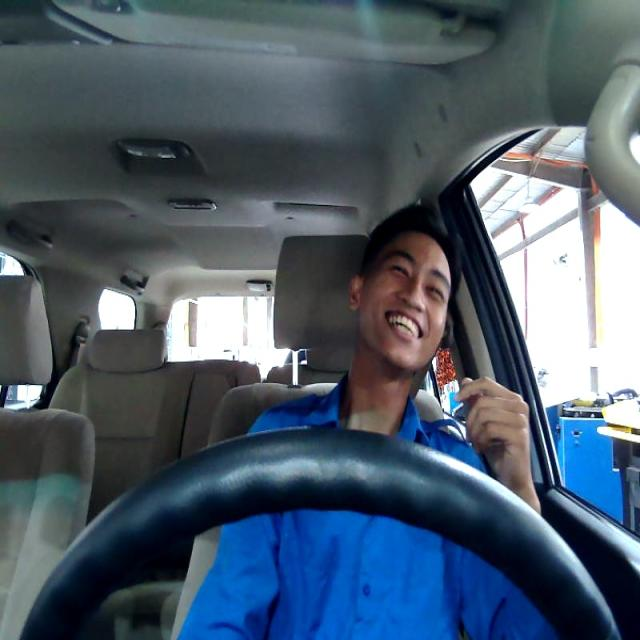focused: (346, 228, 453, 372)
